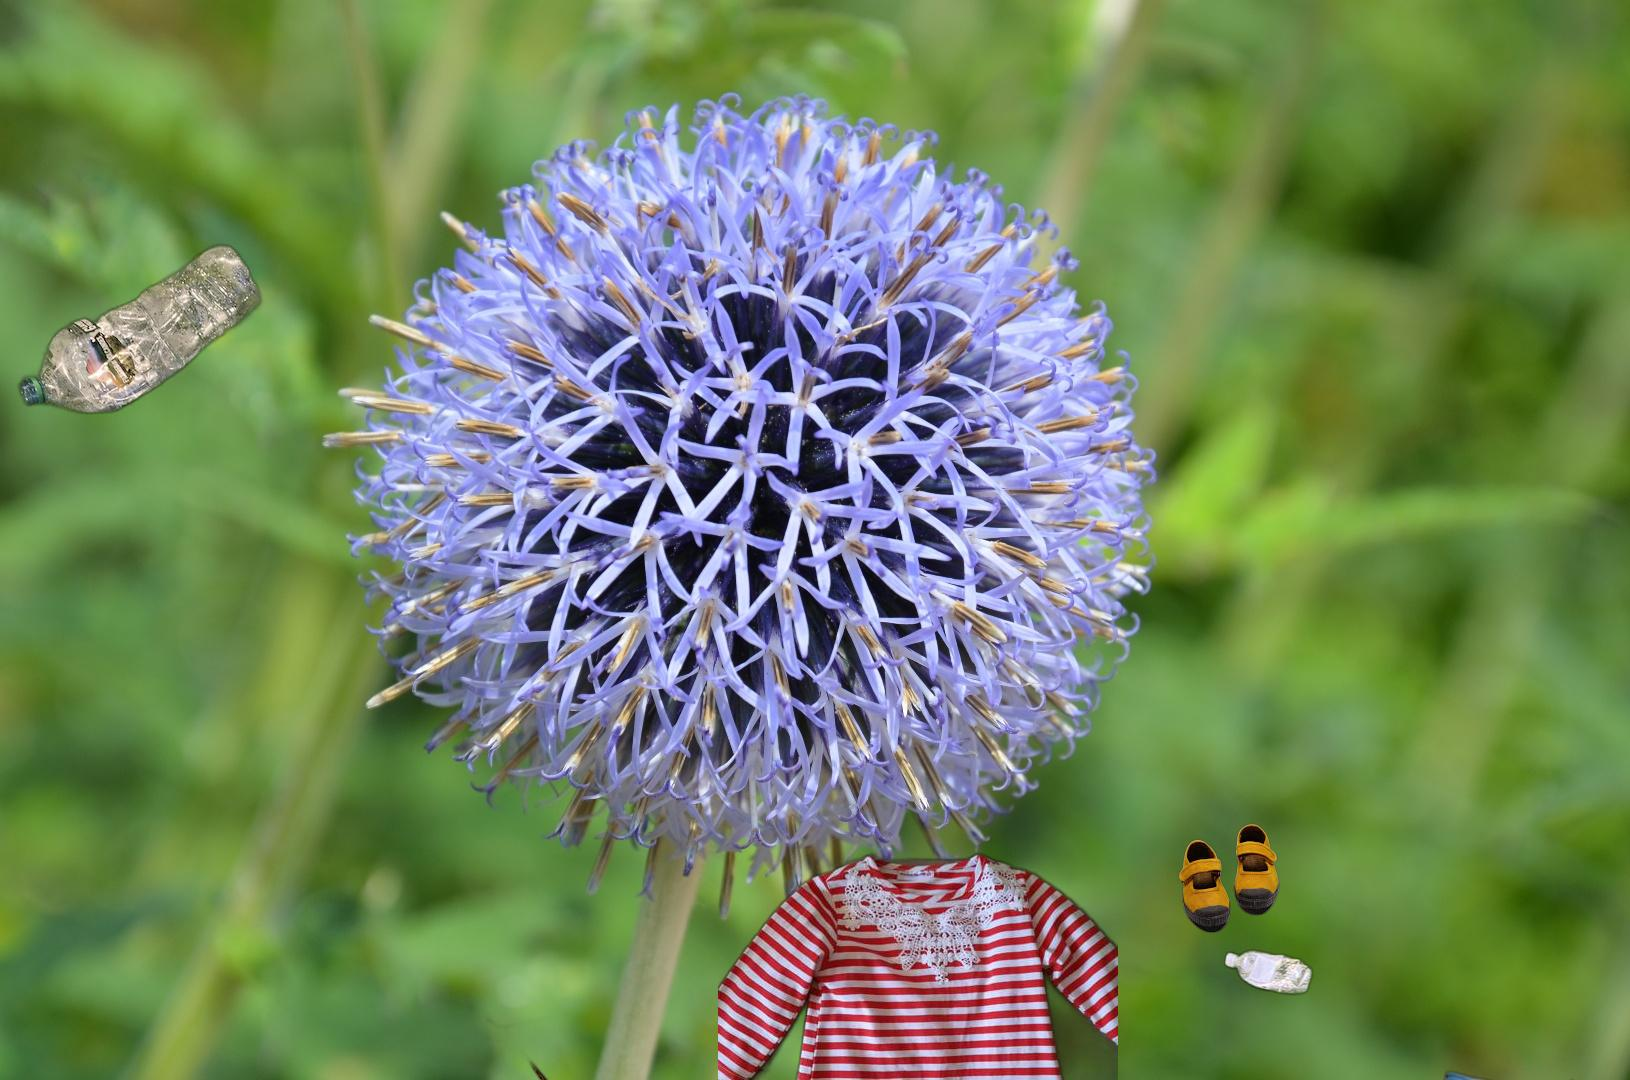clothes: (718, 849, 1118, 1080), (1401, 1047, 1630, 1080)
plastic-bottles: (14, 240, 266, 746), (1042, 943, 1317, 1080)
shoes: (1176, 821, 1282, 935)
trashbox-cardboard: (276, 1012, 695, 1080)
